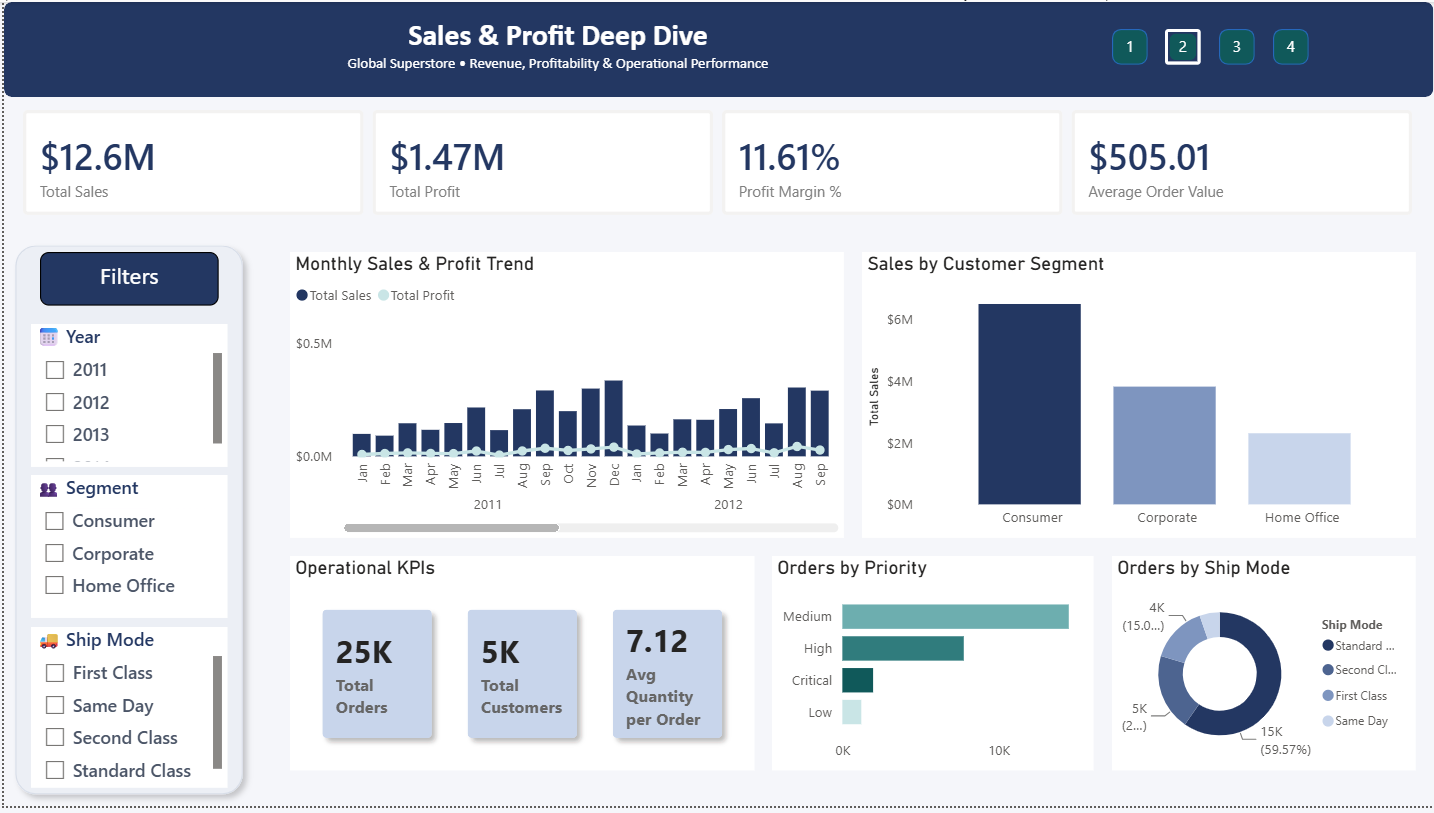

This screenshot's page, from the dashboard's own definition file:
{"tool":"powerbi","page":{"name":"Page 2","canvas":[1280,720],"ordinal":1},"visuals":[{"type":"cardVisual","fields":{"Data":["Measures (2).Total Sales","Measures (2).Total Profit","Measures (2).Profit Margin %","Measures (2).Average Order Value"]},"box":[0,80,1280,128],"z":0},{"type":"shape","box":[0,0,1280,85],"z":1000},{"type":"textbox","box":[8,16,384,96],"z":2000},{"type":"shape","box":[0,208,224,512],"z":3000},{"type":"shape","title":"1","box":[1136,24,32,32],"z":4000},{"type":"shape","title":"1","box":[1088,24,32,32],"z":5000},{"type":"shape","title":"1","box":[992,24,32,32],"z":7000},{"type":"lineClusteredColumnComboChart","title":"Monthly Sales & Profit Trend","fields":{"Category":["Calendar.Year","Calendar.Month"],"Y":["Measures (2).Total Sales"],"Y2":["Measures (2).Total Profit"]},"box":[256,224,496,256],"z":8000},{"type":"clusteredColumnChart","title":"Sales by Customer Segment","fields":{"Category":["superstore.Segment"],"Y":["Measures (2).Total Sales"]},"box":[768,224,496,256],"z":9000},{"type":"shape","title":"1","box":[1040,24,32,32],"z":9500},{"type":"cardVisual","title":"Operational KPIs","fields":{"Data":["Measures (2).Total Orders","Measures (2).Total Customers","Measures (2).Avg Quantity per Order"]},"box":[256,496,416,192],"z":10000},{"type":"barChart","title":"Orders by Priority","fields":{"Category":["superstore.Order Priority"],"Y":["Measures (2).Total Orders"]},"box":[688,496,288,192],"z":11000},{"type":"donutChart","title":"Orders by Ship Mode","fields":{"Y":["Measures (2).Total Orders"],"Category":["superstore.Ship Mode"]},"box":[992,496,272,192],"z":12000},{"type":"textbox","box":[32,224,160,48],"z":13000},{"type":"slicer","title":"🚚 Ship Mode","fields":{"Values":["superstore.Ship Mode"]},"box":[24,560,176,144],"z":14000},{"type":"slicer","title":"👥 Segment","fields":{"Values":["superstore.Segment"]},"box":[24,424,176,128],"z":15000},{"type":"slicer","title":"📅 Year","fields":{"Values":["Calendar.Year"]},"box":[24,288,176,128],"z":16000},{"type":"textbox","box":[16,8,960,72],"z":17000},{"type":"actionButton","box":[1136,16,32,48],"z":18000},{"type":"actionButton","box":[1088,16,32,48],"z":19000},{"type":"actionButton","box":[992,16,32,48],"z":21000}]}

Visuals, with their boxes in screenshot pixels (x1, y1, x2, y2), scaled from the page's 1280x720 canvas onto the 1434x813 screenshot:
cardVisual - Measures (2).Total Sales x Measures (2).Total Profit: region(0, 90, 1433, 235)
shape: region(0, 0, 1433, 96)
textbox: region(9, 18, 439, 126)
shape: region(0, 235, 251, 812)
"1" shape: region(1273, 27, 1309, 63)
"1" shape: region(1219, 27, 1255, 63)
"1" shape: region(1111, 27, 1147, 63)
"Monthly Sales & Profit Trend" lineClusteredColumnComboChart: region(287, 253, 842, 542)
"Sales by Customer Segment" clusteredColumnChart: region(860, 253, 1416, 542)
"1" shape: region(1165, 27, 1201, 63)
"Operational KPIs" cardVisual: region(287, 560, 753, 777)
"Orders by Priority" barChart: region(771, 560, 1093, 777)
"Orders by Ship Mode" donutChart: region(1111, 560, 1416, 777)
textbox: region(36, 253, 215, 307)
"🚚 Ship Mode" slicer: region(27, 632, 224, 795)
"👥 Segment" slicer: region(27, 479, 224, 623)
"📅 Year" slicer: region(27, 325, 224, 470)
textbox: region(18, 9, 1093, 90)
actionButton: region(1273, 18, 1309, 72)
actionButton: region(1219, 18, 1255, 72)
actionButton: region(1111, 18, 1147, 72)
